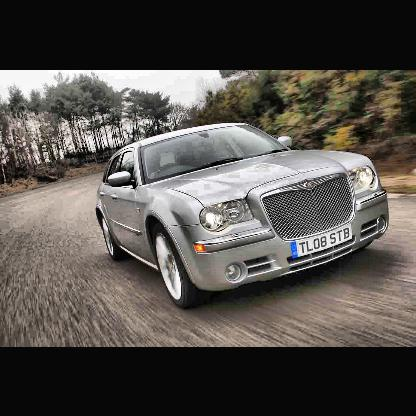Chrysler 300 SRT-8 2010: (94, 120, 391, 314)
